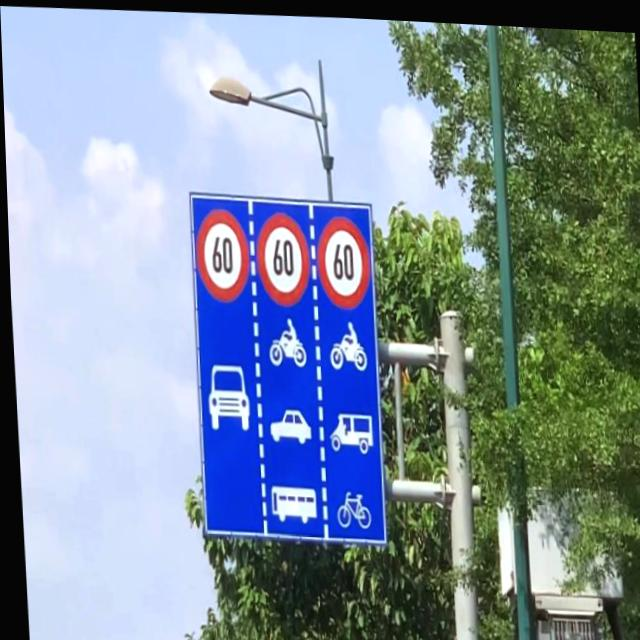Toc do toi da cho phep: (312, 210, 370, 306), (252, 207, 309, 304), (192, 205, 248, 301)
